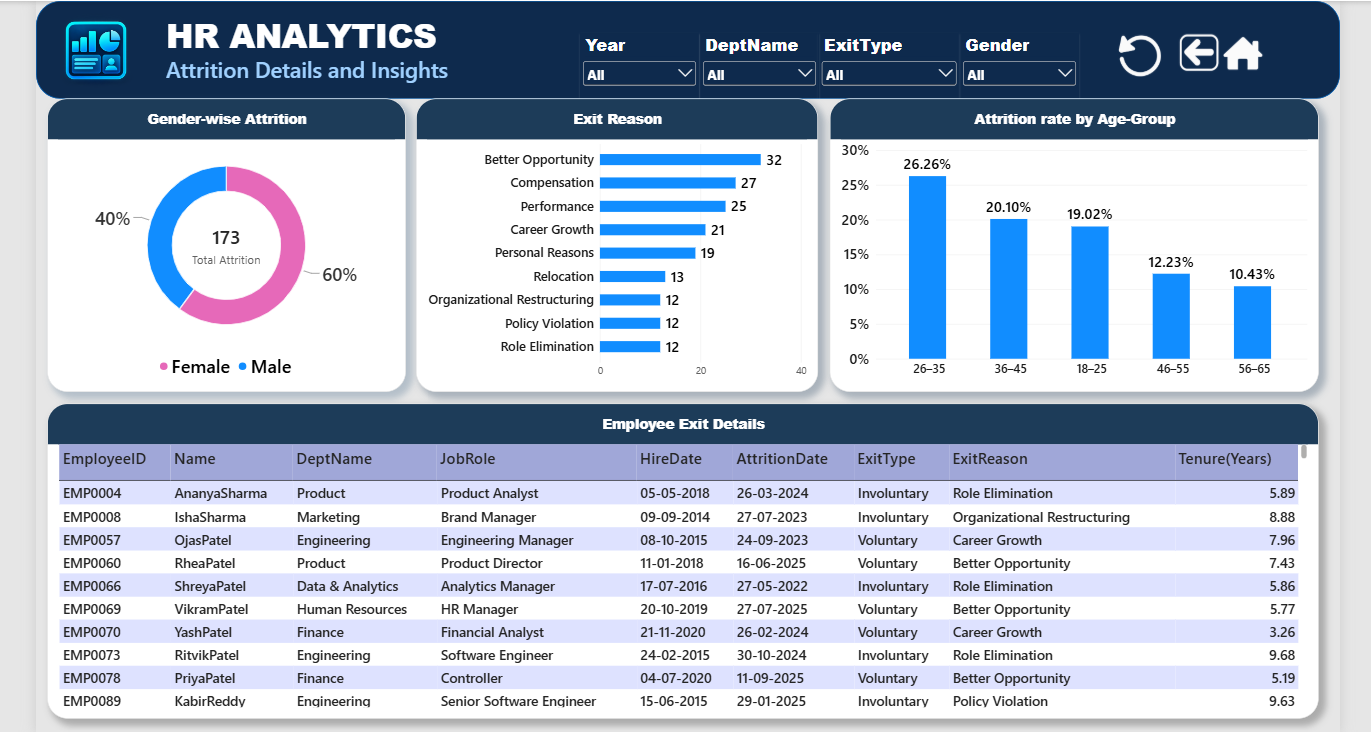

This screenshot's page, from the dashboard's own definition file:
{"tool":"powerbi","page":{"name":"Attrition-Details & Insights","canvas":[1920,1080],"ordinal":4},"visuals":[{"type":"shape","box":[0,0,1920,144],"z":0},{"type":"image","box":[1744,48,64,56.9],"z":0,"group":"g2"},{"type":"textbox","box":[192,16,696,96],"z":1000},{"type":"slicer","fields":{"Values":["Attrition.ExitType"]},"box":[1152,48,208,96],"z":2000,"group":"g4"},{"type":"image","box":[1680,48,64,56.9],"z":2000,"group":"g2"},{"type":"textbox","box":[192,80,512,48],"z":2000},{"type":"slicer","fields":{"Values":["Calender.Year"]},"box":[800,48,176,96],"z":2012,"group":"g1"},{"type":"slicer","fields":{"Values":["Employees.Gender"]},"box":[1360,48,176,96],"z":2012,"group":"g3"},{"type":"image","box":[16,16,144,112],"z":3000},{"type":"slicer","fields":{"Values":["Departments.DeptName"]},"box":[976,48,176,96],"z":3000,"group":"g4"},{"type":"group","id":"g1","title":"Group 2","box":[800,48,176,96],"z":4000,"group":"g4"},{"type":"group","id":"g2","title":"Group 1","box":[1680,48,128,56.9],"z":4000},{"type":"group","id":"g3","title":"Group 2","box":[1360,48,176,96],"z":5000},{"type":"donutChart","title":"Gender-wise Attrition","fields":{"Category":["Employees.Gender"],"Y":["All_Measures.Total Attrition"]},"box":[16,144,528,432],"z":6000},{"type":"group","id":"g4","title":"Group 3","box":[800,48,544,96],"z":7000},{"type":"image","box":[1584,48,80,64],"z":8000},{"type":"tableEx","title":"Employee Exit Details","fields":{"Values":["Employees.EmployeeID","Employees.Name","Departments.DeptName","Employees.JobRole","Employees.HireDate","Attrition.AttritionDate","Attrition.ExitType","Attrition.ExitReason","All_Measures.Average Tenure"]},"box":[16,592,1872,464],"z":9000},{"type":"barChart","title":"Exit Reason ","fields":{"Category":["Attrition.ExitReason"],"Y":["All_Measures.Total Attrition"]},"box":[560,144,592,432],"z":10000},{"type":"columnChart","title":"Attrition rate by Age-Group","fields":{"Category":["Employees.Age Group"],"Y":["All_Measures.Attrition Rate%"]},"box":[1168,144,720,432],"z":11000}]}

Visuals, with their boxes on the page's 1920x1080 design canvas (x1, y1, x2, y2). These are canvas units, not pixel positions in the 1371x732 screenshot, which may show the page scaled, cropped or inside an application window:
shape: {"left": 0, "top": 0, "right": 1920, "bottom": 144}
image: {"left": 1744, "top": 48, "right": 1808, "bottom": 105}
textbox: {"left": 192, "top": 16, "right": 888, "bottom": 112}
slicer - Attrition.ExitType: {"left": 1152, "top": 48, "right": 1360, "bottom": 144}
image: {"left": 1680, "top": 48, "right": 1744, "bottom": 105}
textbox: {"left": 192, "top": 80, "right": 704, "bottom": 128}
slicer - Calender.Year: {"left": 800, "top": 48, "right": 976, "bottom": 144}
slicer - Employees.Gender: {"left": 1360, "top": 48, "right": 1536, "bottom": 144}
image: {"left": 16, "top": 16, "right": 160, "bottom": 128}
slicer - Departments.DeptName: {"left": 976, "top": 48, "right": 1152, "bottom": 144}
"Group 2" group: {"left": 800, "top": 48, "right": 976, "bottom": 144}
"Group 1" group: {"left": 1680, "top": 48, "right": 1808, "bottom": 105}
"Group 2" group: {"left": 1360, "top": 48, "right": 1536, "bottom": 144}
"Gender-wise Attrition" donutChart: {"left": 16, "top": 144, "right": 544, "bottom": 576}
"Group 3" group: {"left": 800, "top": 48, "right": 1344, "bottom": 144}
image: {"left": 1584, "top": 48, "right": 1664, "bottom": 112}
"Employee Exit Details" tableEx: {"left": 16, "top": 592, "right": 1888, "bottom": 1056}
"Exit Reason " barChart: {"left": 560, "top": 144, "right": 1152, "bottom": 576}
"Attrition rate by Age-Group" columnChart: {"left": 1168, "top": 144, "right": 1888, "bottom": 576}
